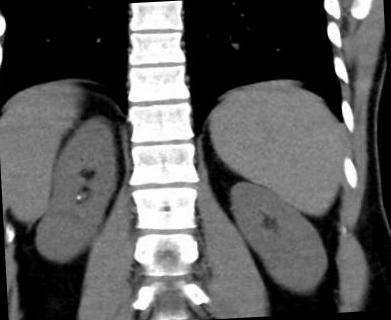Tas_Var: (75, 193, 81, 202)
